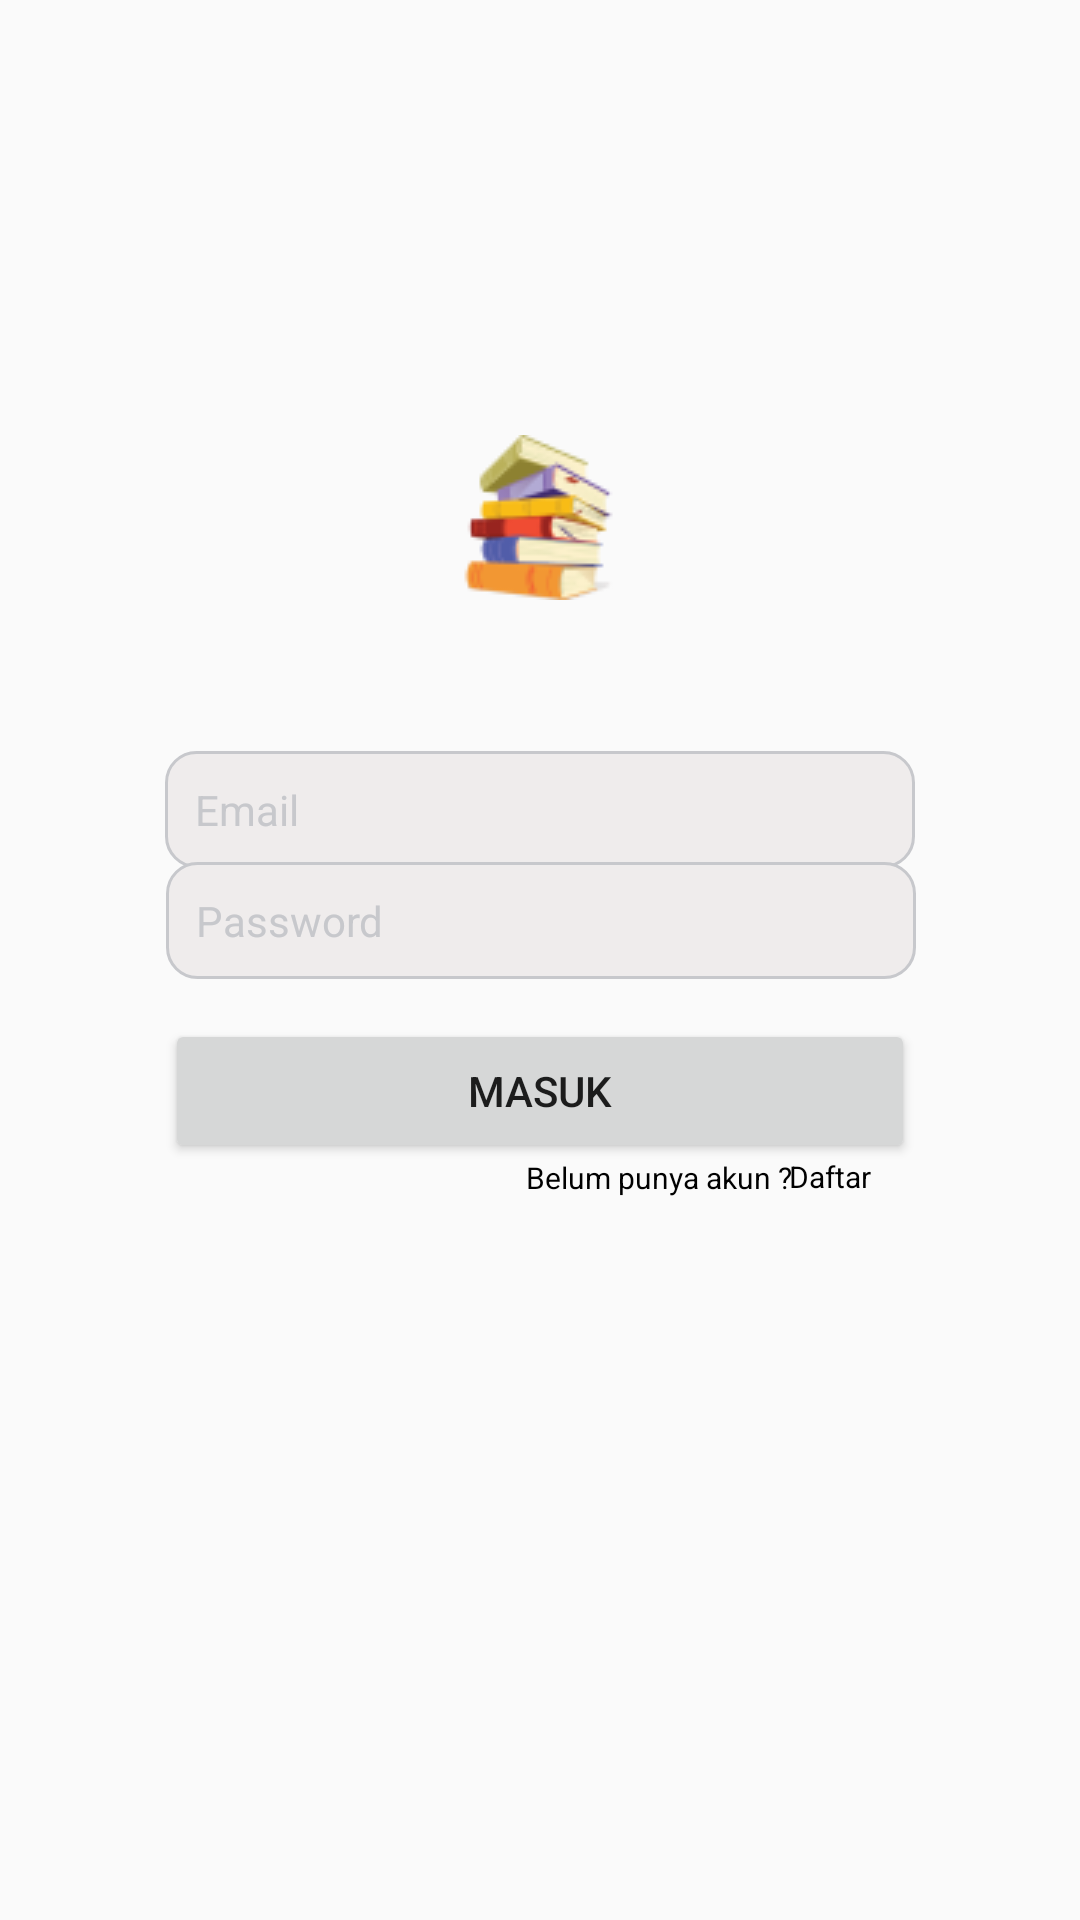

Icons on this 1080w x 1920h Android screen, each with its box as (x1, y1, x2, y2):
buku: (464, 435, 612, 600)
